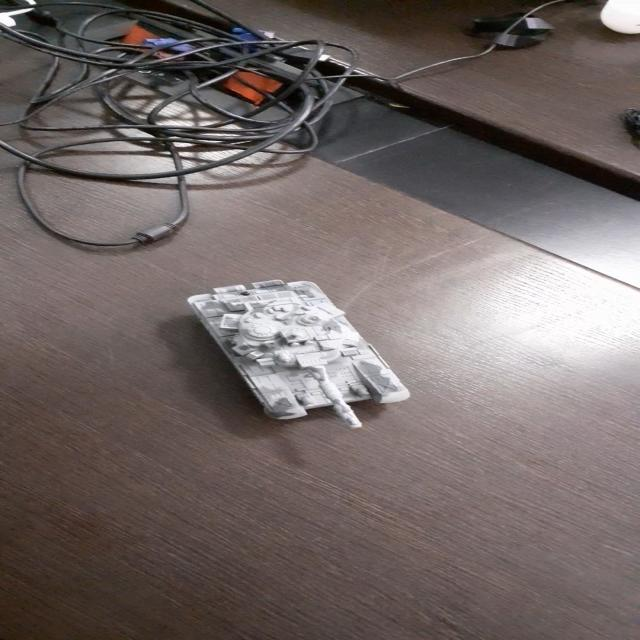tank: (191, 276, 414, 428)
